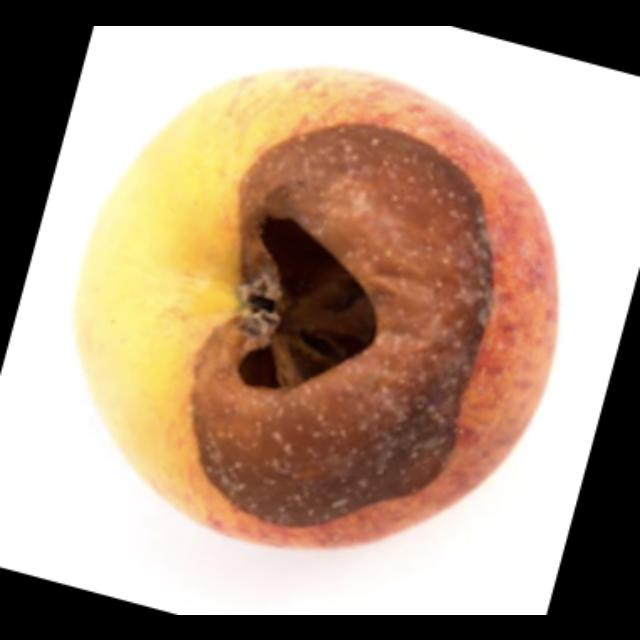Apel Tidak Segar: (78, 67, 560, 550)
